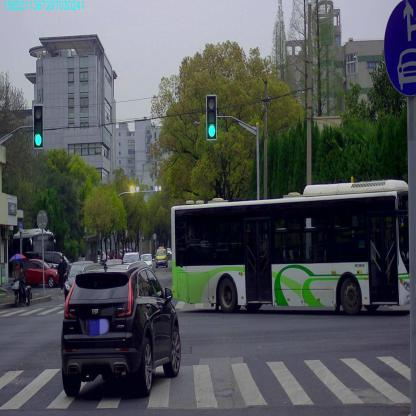traffic-light: (206, 95, 216, 140), (34, 104, 43, 148)
